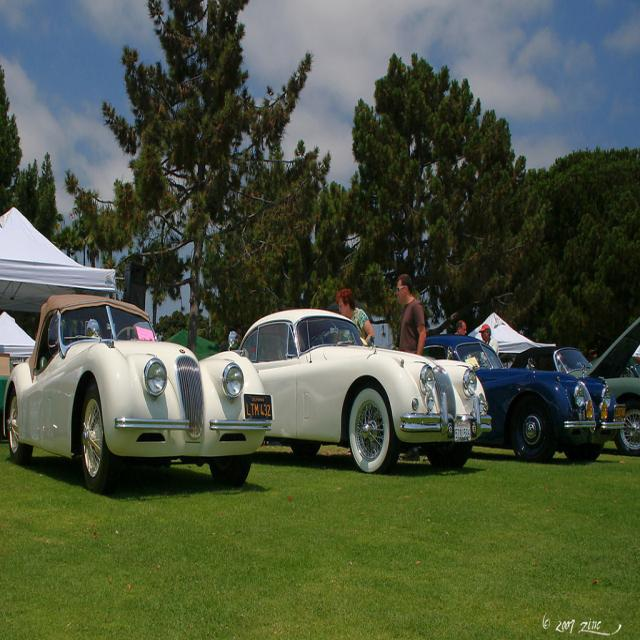car: (4, 287, 290, 489)
